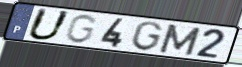2: (193, 28, 227, 61)
4: (98, 17, 125, 49)
G: (129, 20, 165, 52), (64, 14, 100, 45)
M: (157, 23, 203, 58)
U: (25, 7, 73, 42)
